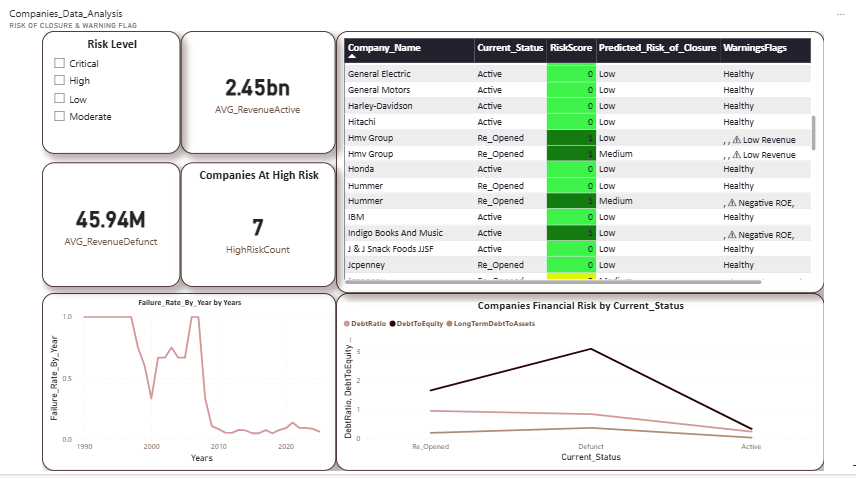

What the dashboard file says about the page in this screenshot:
{"tool":"powerbi","page":{"name":"Risk of Closure & Warning Flag","canvas":[1280,720],"ordinal":3},"visuals":[{"type":"lineChart","fields":{"Category":["companies_mergedData.Years"],"Y":["companies_mergedData.Failure_Rate_By_Year"]},"box":[0,428.8,481.2,290.6],"z":0},{"type":"card","fields":{"Values":["companies_mergedData.AVG_RevenueActive"]},"box":[227.1,0,254.1,201.7],"z":2000},{"type":"card","fields":{"Values":["companies_mergedData.AVG_RevenueDefunct"]},"box":[0,214.4,227.1,203.3],"z":3000},{"type":"lineChart","title":"Companies Financial Risk by Current_Status","fields":{"Category":["companies_mergedData.Current_Status"],"Y":["companies_mergedData.DebtRatio","companies_mergedData.DebtToEquity","companies_mergedData.LongTermDebtToAssets"]},"box":[481.2,428.8,798.8,290.6],"z":4000},{"type":"tableEx","fields":{"Values":["companies_mergedData.Company_Name","companies_mergedData.Current_Status","companies_mergedData.RiskScore","companies_mergedData.Predicted_Risk_of_Closure","companies_mergedData.WarningsFlags"]},"box":[481.2,0,798.8,428.8],"z":5000},{"type":"card","title":"Companies At High Risk","fields":{"Values":["companies_mergedData.HighRiskCount"]},"box":[227.1,214.4,254.1,203.3],"z":6000},{"type":"slicer","title":"Risk Level","fields":{"Values":["RiskLevelTable.RiskLevel"]},"box":[0,0,227.1,201.7],"z":7000}]}

Visuals, with their boxes on the page's 1280x720 design canvas (x1, y1, x2, y2). These are canvas units, not pixel positions in the 856x478 screenshot, which may show the page scaled, cropped or inside an application window:
lineChart - companies_mergedData.Years x companies_mergedData.Failure_Rate_By_Year: 0 429 481 719
card - companies_mergedData.AVG_RevenueActive: 227 0 481 202
card - companies_mergedData.AVG_RevenueDefunct: 0 214 227 418
"Companies Financial Risk by Current_Status" lineChart: 481 429 1280 719
tableEx - companies_mergedData.Company_Name x companies_mergedData.Current_Status: 481 0 1280 429
"Companies At High Risk" card: 227 214 481 418
"Risk Level" slicer: 0 0 227 202
